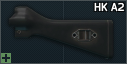MP5 A2 stock: (0, 0, 127, 64)
